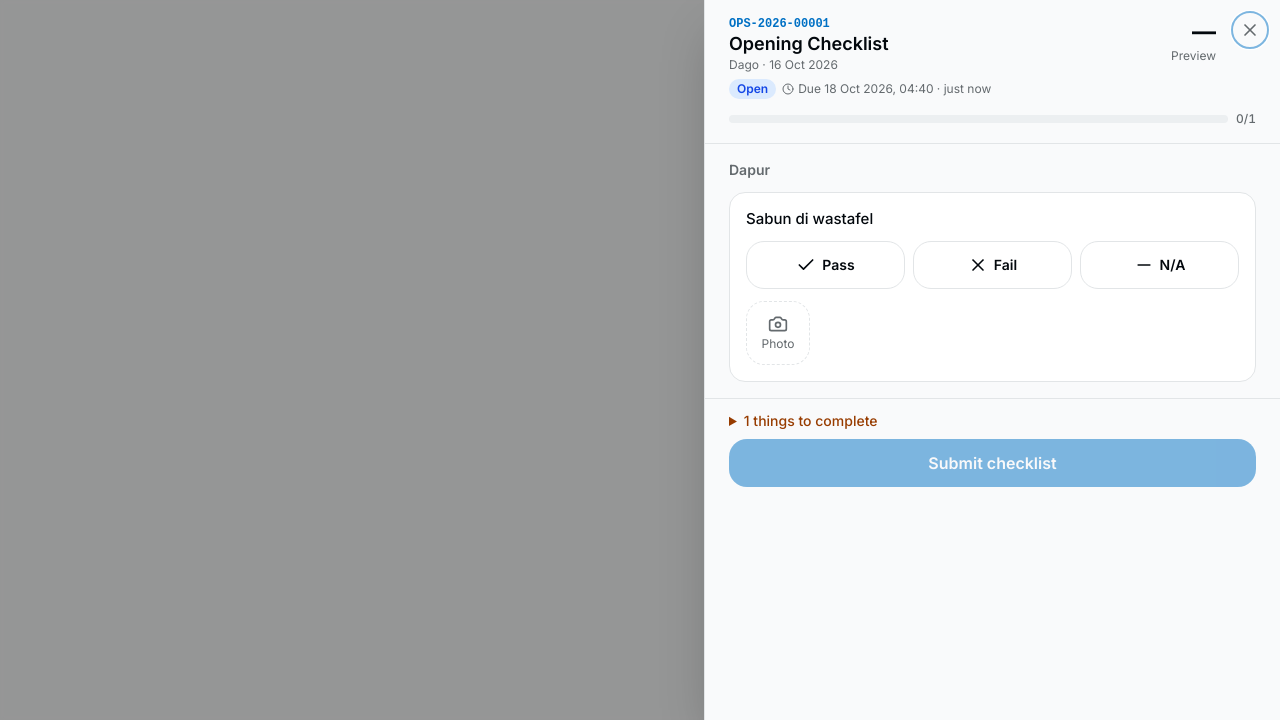
Scenario: ChecklistRunner › previews the issue a failed item will raise
What coordinates should you click on to do the following:
click the button "Fail"
I would click on:
 (992, 265)
Its box is top-left (913, 241), bottom-right (1072, 289).
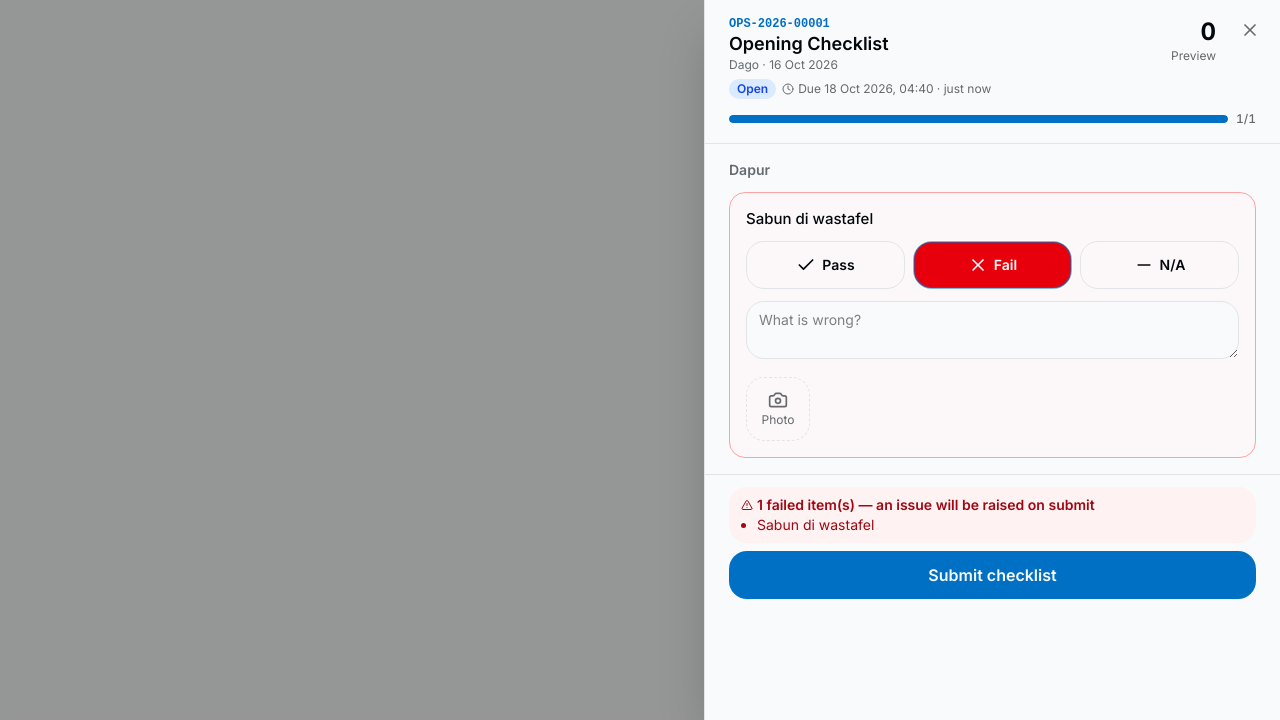
Expected: the text "an issue will be raised" is shown, top-left (757, 496), bottom-right (1095, 513)
Expected: the list item "Sabun di wastafel" is shown, top-left (757, 516), bottom-right (874, 533)
